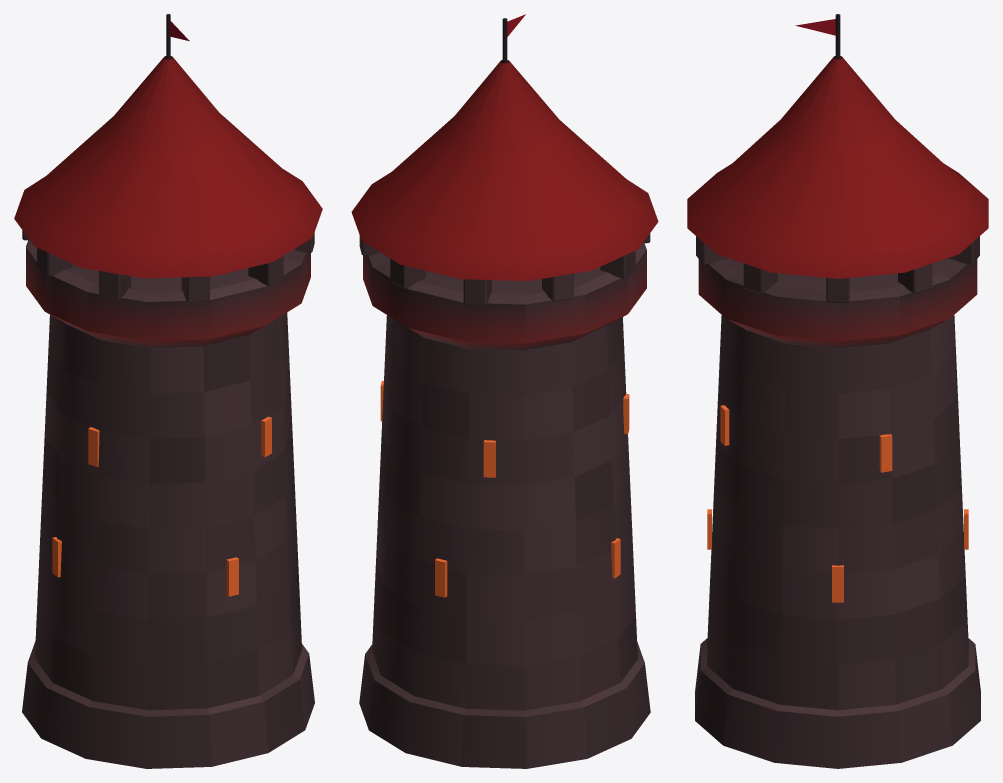
Rendered from citadel_tower.glb.
The picture shows the model from 3 angles, left to right: view 1: azimuth 30°, elevation 25°; view 2: azimuth 150°, elevation 25°; view 3: azimuth 270°, elevation 25°; orthographic projection.
Parts seen in each view (by area): view 1: citadel_tower, citadel_tower_glow; view 2: citadel_tower, citadel_tower_glow; view 3: citadel_tower, citadel_tower_glow.
Boxes of the visible parts, x1,y1,x2,y2 form: citadel_tower: (14,14,322,768); citadel_tower_glow: (52,416,271,596); citadel_tower: (351,14,658,768); citadel_tower_glow: (380,381,629,597); citadel_tower: (687,14,988,768); citadel_tower_glow: (707,405,968,602).
Bounding box in the file's own units: 7.9 × 19.5 × 7.7.
